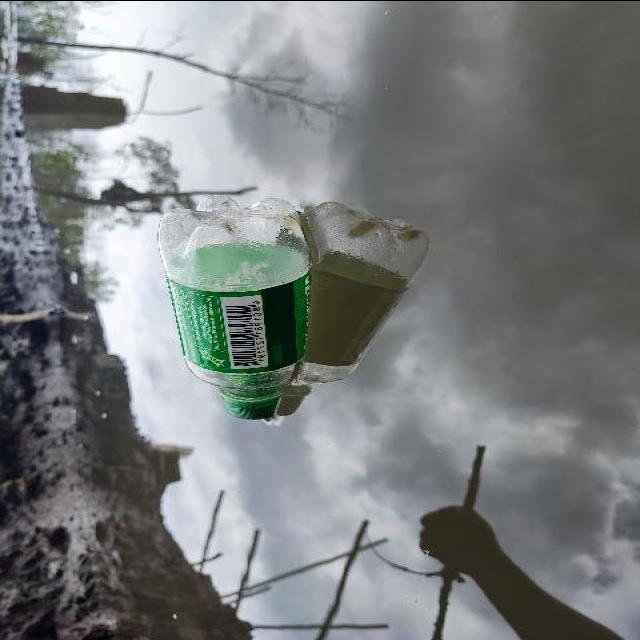Bottle: (148, 183, 320, 431)
